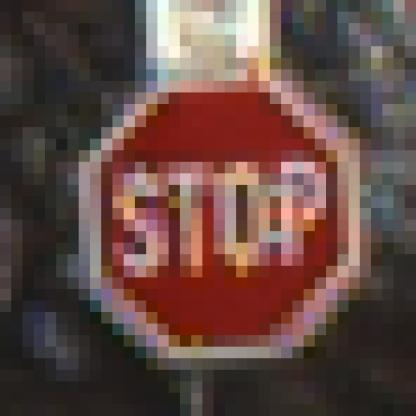Stop: (84, 74, 354, 355)
